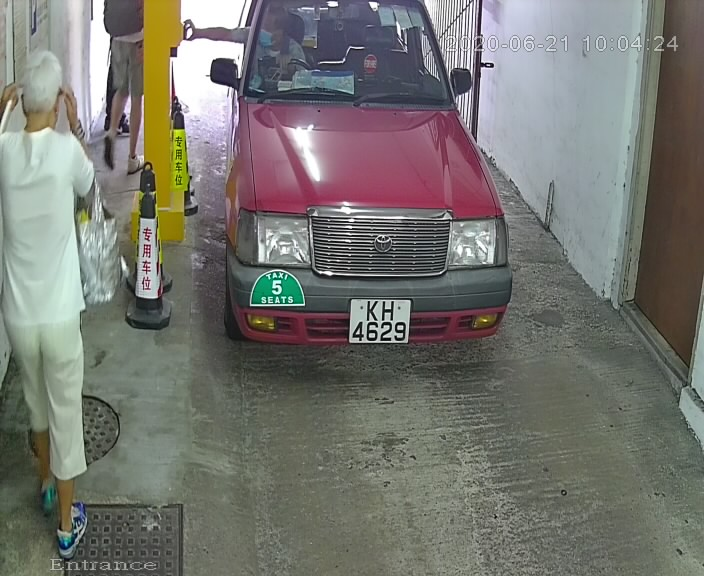taxi: (198, 1, 528, 384)
taxi_mark: (245, 254, 314, 320)
